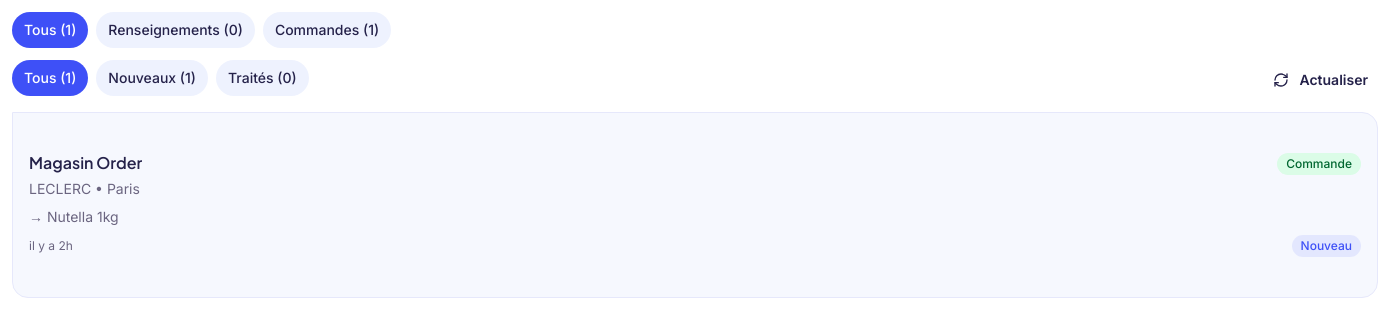
Scenario: SupplierRequestList › shows filtered empty state with type-specific message
Click the radio button "Renseignements (0)".
click(176, 30)  # box [96,12,255,48]
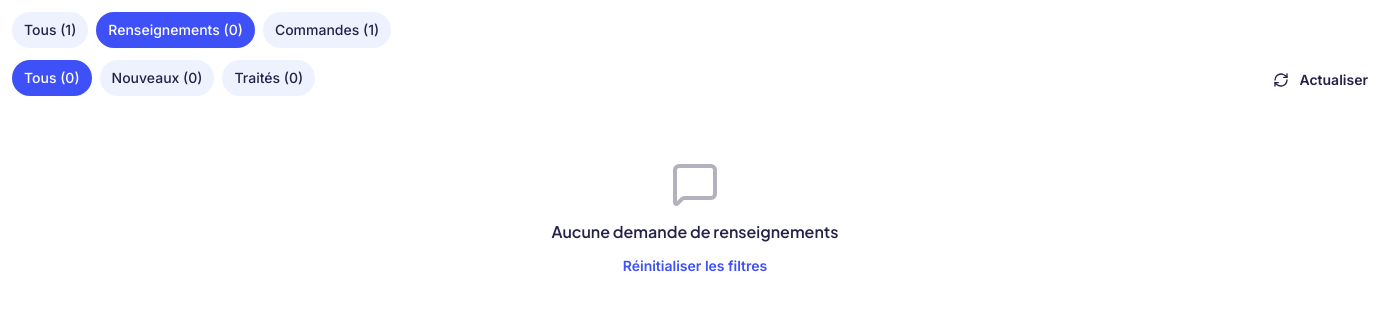
Now the text "Aucune demande de renseignements" is shown, box [552,220,838,244]
